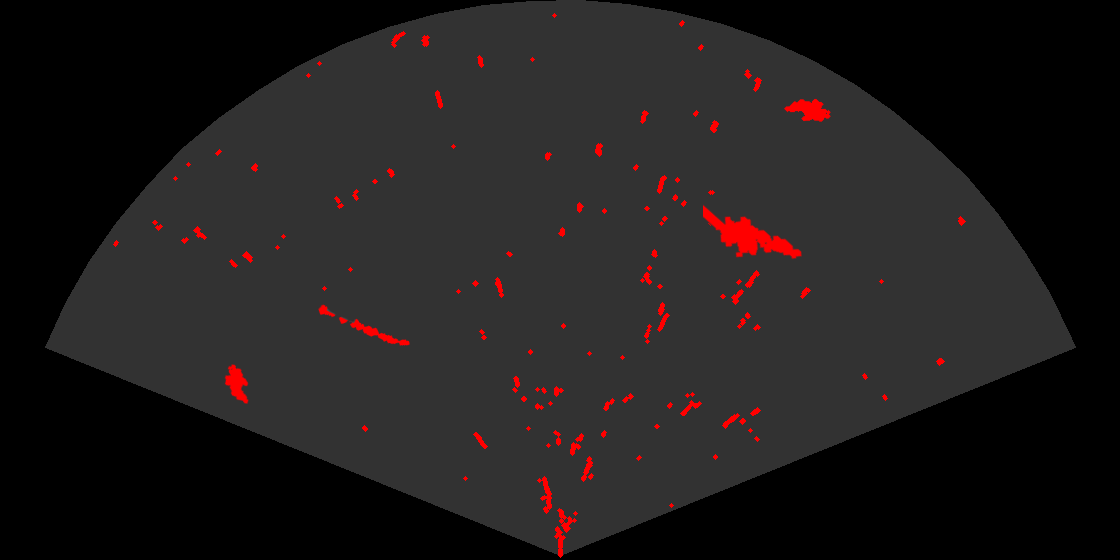AUV: (782, 97, 832, 123), (223, 363, 250, 405)
chain: (317, 303, 411, 347)
frogman: (703, 203, 804, 261)
